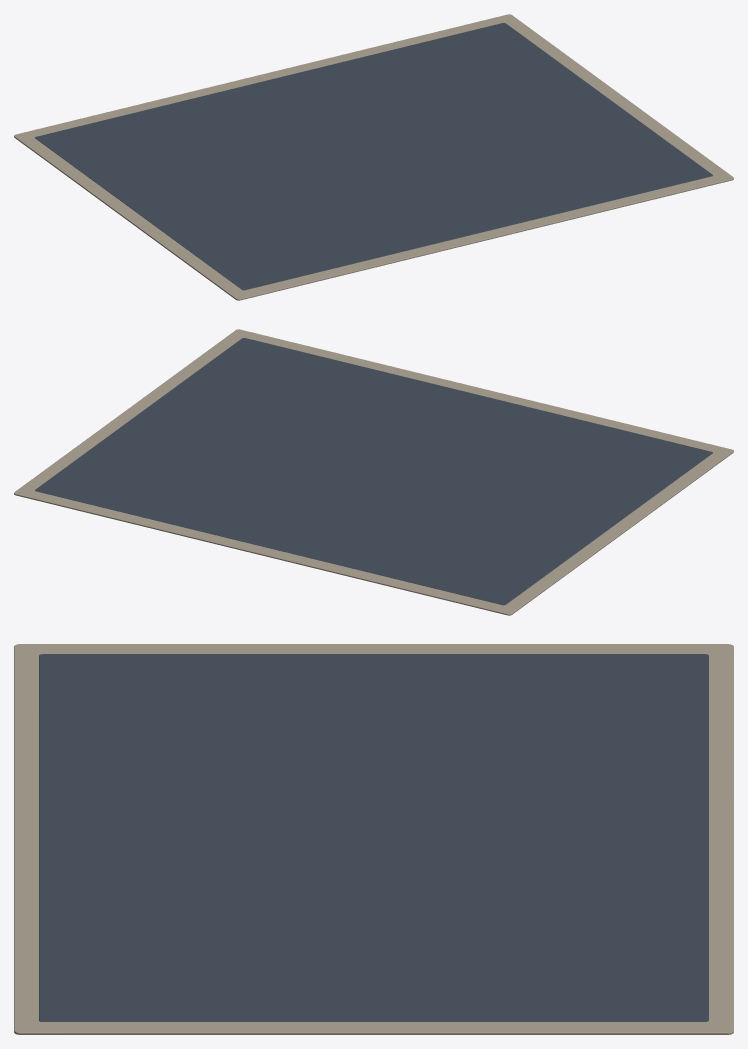
The model's file is living_rug_b.gltf.
The picture shows the model from 3 angles, top to bottom: view 1: azimuth 30°, elevation 25°; view 2: azimuth 150°, elevation 25°; view 3: azimuth 270°, elevation 25°; orthographic projection. The views are drawn at different scales.
Parts seen in each view (by area): view 1: LivingRugB_Field, LivingRugB_Border; view 2: LivingRugB_Field, LivingRugB_Border; view 3: LivingRugB_Field, LivingRugB_Border.
Part boxes in pixels (x1=…): LivingRugB_Field: x1=35, y1=23, x2=712, y2=290; LivingRugB_Border: x1=14, y1=14, x2=733, y2=300; LivingRugB_Field: x1=35, y1=338, x2=712, y2=605; LivingRugB_Border: x1=14, y1=329, x2=733, y2=615; LivingRugB_Field: x1=39, y1=654, x2=708, y2=1021; LivingRugB_Border: x1=14, y1=644, x2=733, y2=1034.
Size of the model in its own units: 4.6 by 0.0171 by 3.6.
